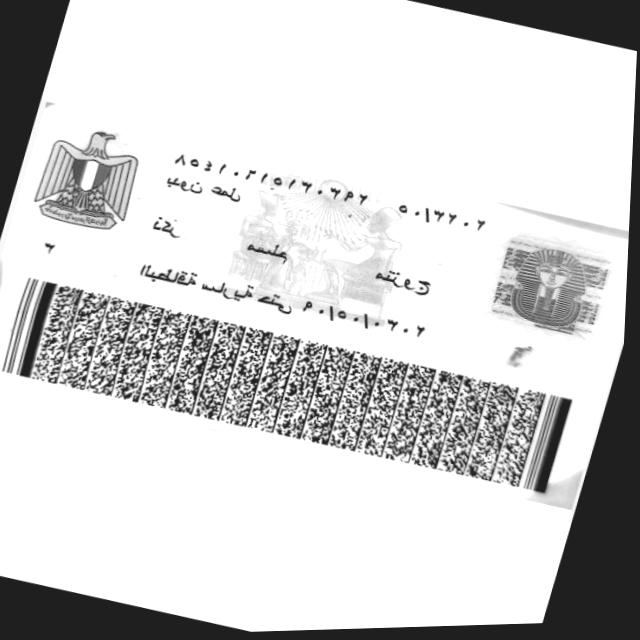id_card: (0, 85, 635, 530)
